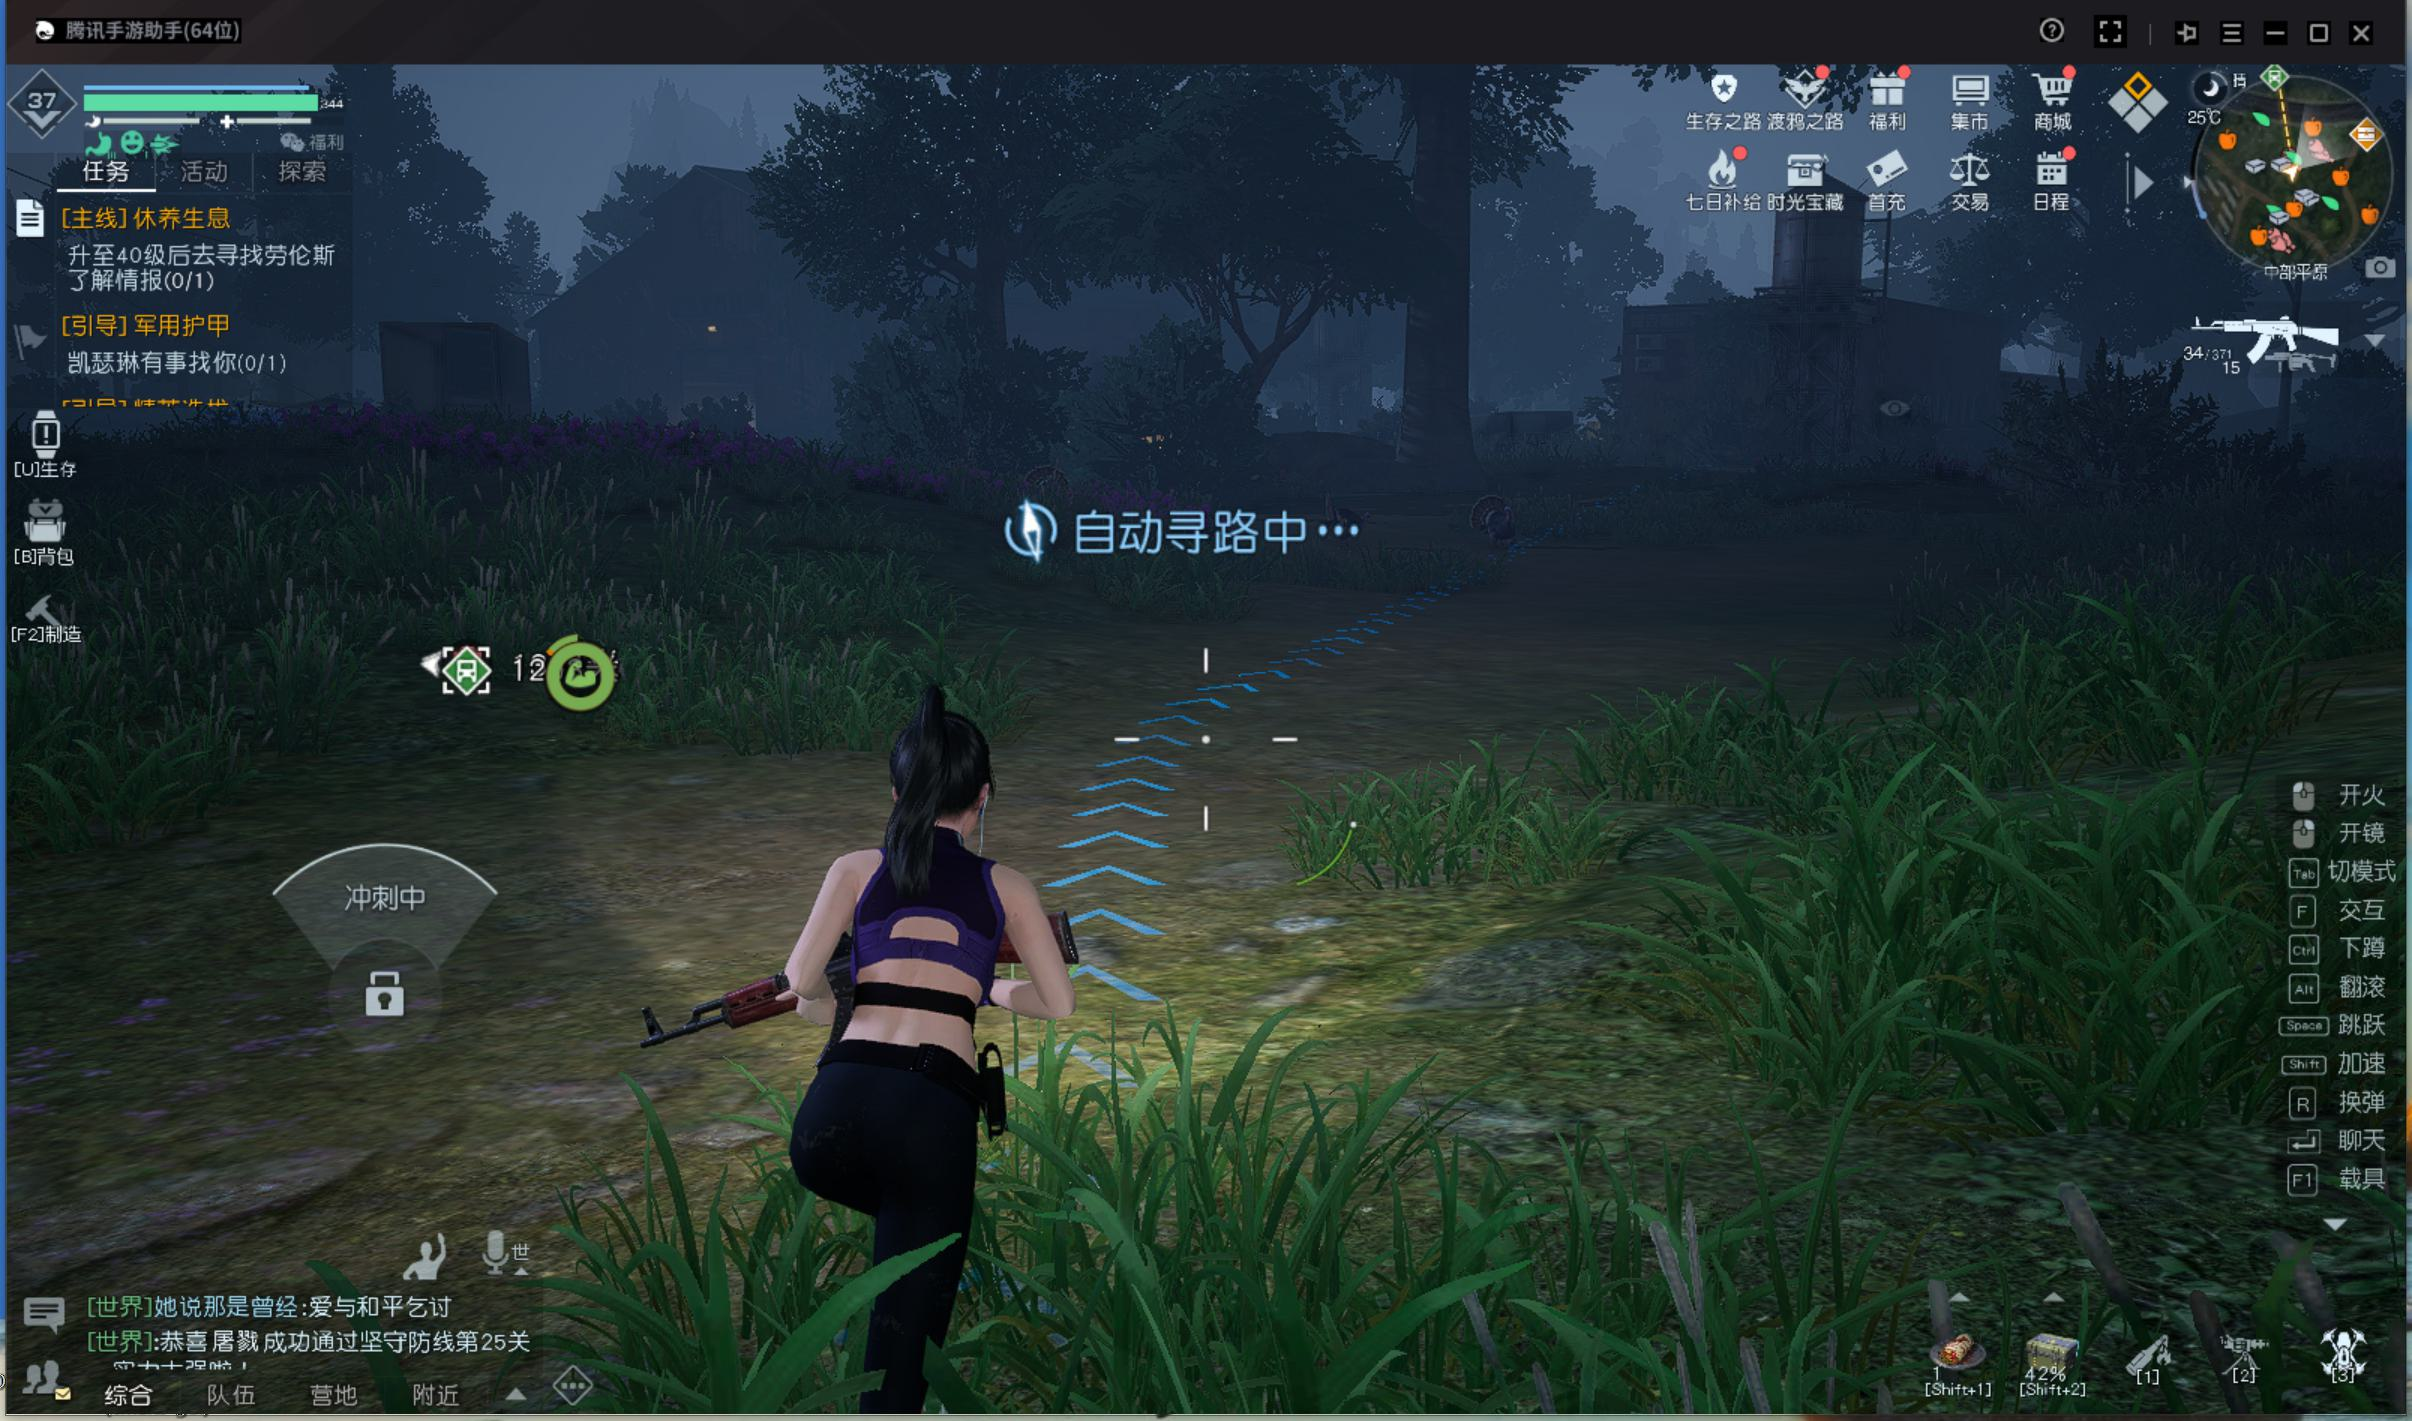tree: (1382, 240, 1466, 531), (968, 283, 1028, 479)
